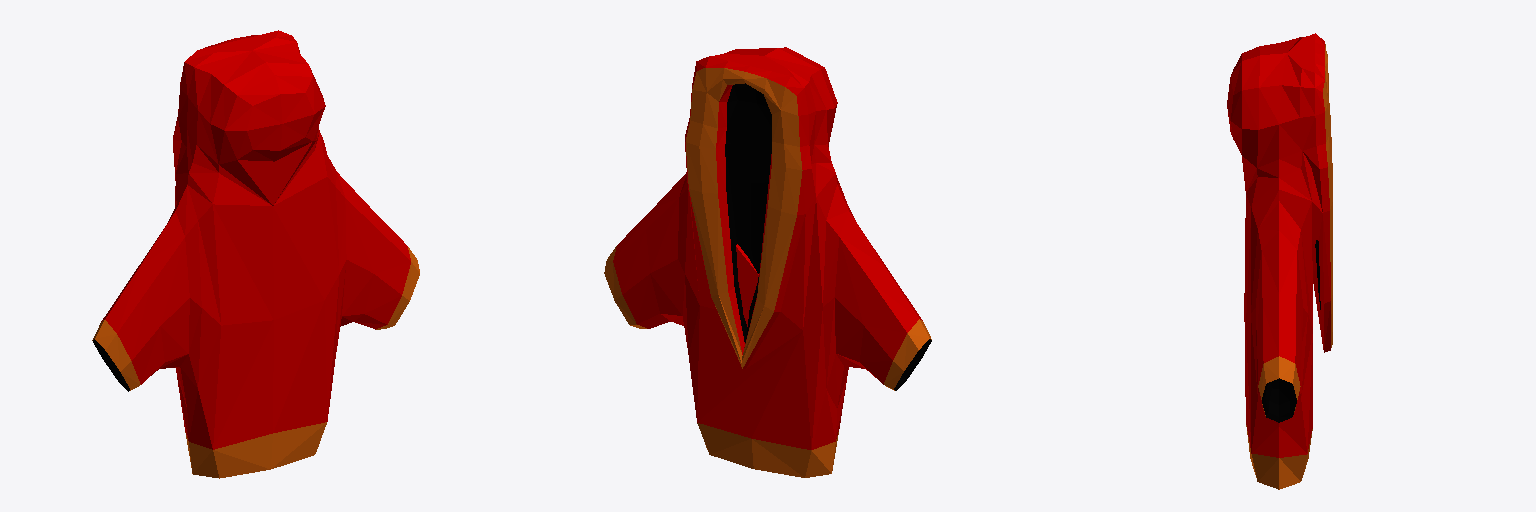
Rendered from MageCloth.obj.
The picture shows the model from 3 angles: view 1: azimuth 30°, elevation 25°; view 2: azimuth 150°, elevation 25°; view 3: azimuth 270°, elevation 25°; orthographic projection.
Parts seen in each view (by area): view 1: Cube7; view 2: Cube7; view 3: Cube7.
Part boxes in pixels (left/top/right/bottom): Cube7: left=92, top=30, right=419, bottom=478; Cube7: left=604, top=47, right=931, bottom=477; Cube7: left=1227, top=33, right=1332, bottom=489.
Size of the model in its own units: 4.69 by 5.63 by 1.34.